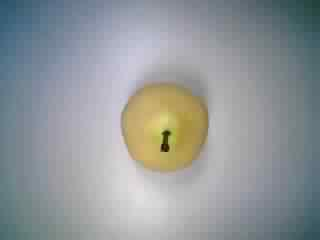pear: (105, 75, 220, 175)
